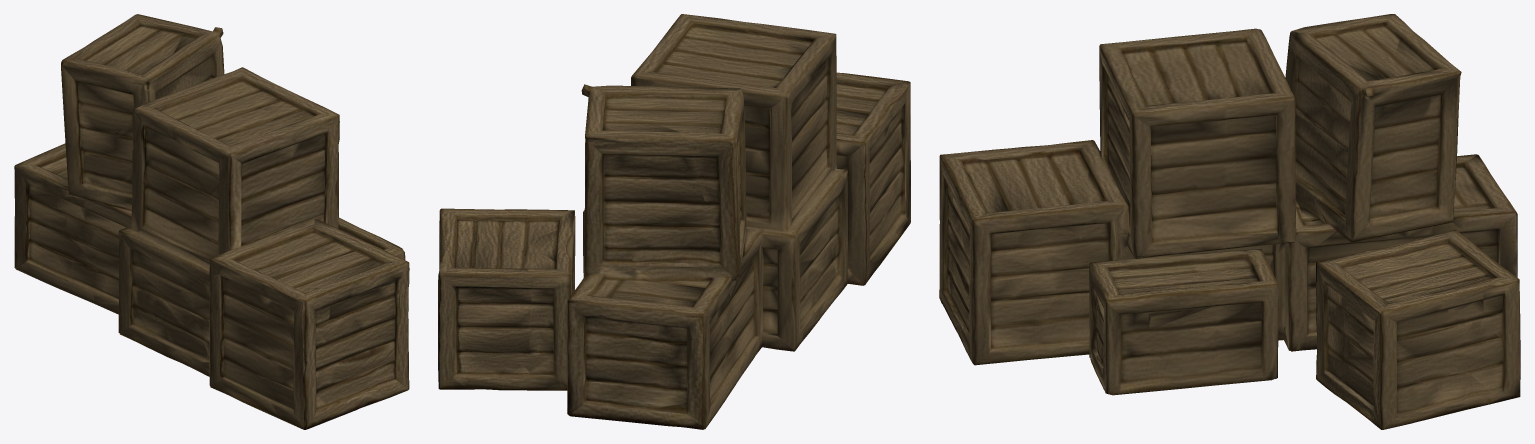
Rendered from Crate_Stack.glb.
3 renders of one model, left to right at view 1: azimuth 30°, elevation 25°; view 2: azimuth 150°, elevation 25°; view 3: azimuth 270°, elevation 25°, orthographic. The views are drawn at different scales.
Visible parts, largest first — view 1: tripo_node_1f71443e-5505-4ac3-a0c9-8efc63e8daf3; view 2: tripo_node_1f71443e-5505-4ac3-a0c9-8efc63e8daf3; view 3: tripo_node_1f71443e-5505-4ac3-a0c9-8efc63e8daf3.
Boxes of the visible parts, x1=… form: tripo_node_1f71443e-5505-4ac3-a0c9-8efc63e8daf3: x1=14, y1=14, x2=409, y2=429; tripo_node_1f71443e-5505-4ac3-a0c9-8efc63e8daf3: x1=438, y1=14, x2=910, y2=429; tripo_node_1f71443e-5505-4ac3-a0c9-8efc63e8daf3: x1=939, y1=14, x2=1520, y2=429.
Size of the model in its own units: 0.6196 by 0.509 by 0.9784.
1 material, 1 textured.
